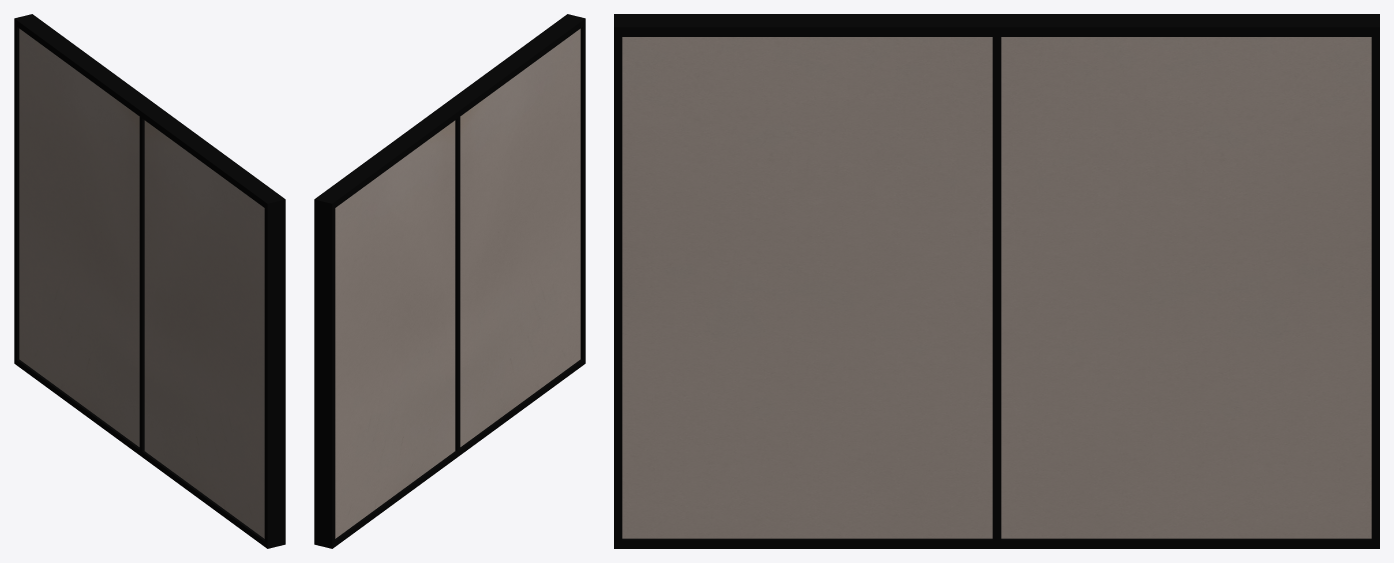
File: Parede_Madeira.fbx
3 views of the same model, side by side, from view 1: azimuth 30°, elevation 25°; view 2: azimuth 150°, elevation 25°; view 3: azimuth 270°, elevation 25° (orthographic). The views are drawn at different scales.
Visible parts, largest first — view 1: Parede_Madeira; view 2: Parede_Madeira; view 3: Parede_Madeira.
Part boxes in pixels (x1,y1,x2,y2): Parede_Madeira: (14,14,285,548); Parede_Madeira: (314,14,585,548); Parede_Madeira: (614,14,1379,548).
Bounding box in the file's own units: 17.11 × 310 × 413.
